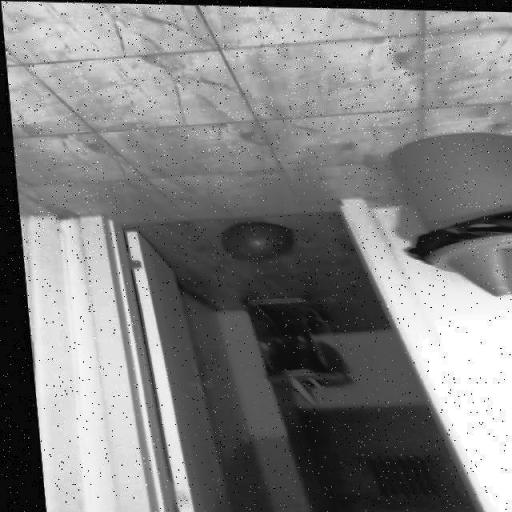balloon: (204, 218, 303, 269)
